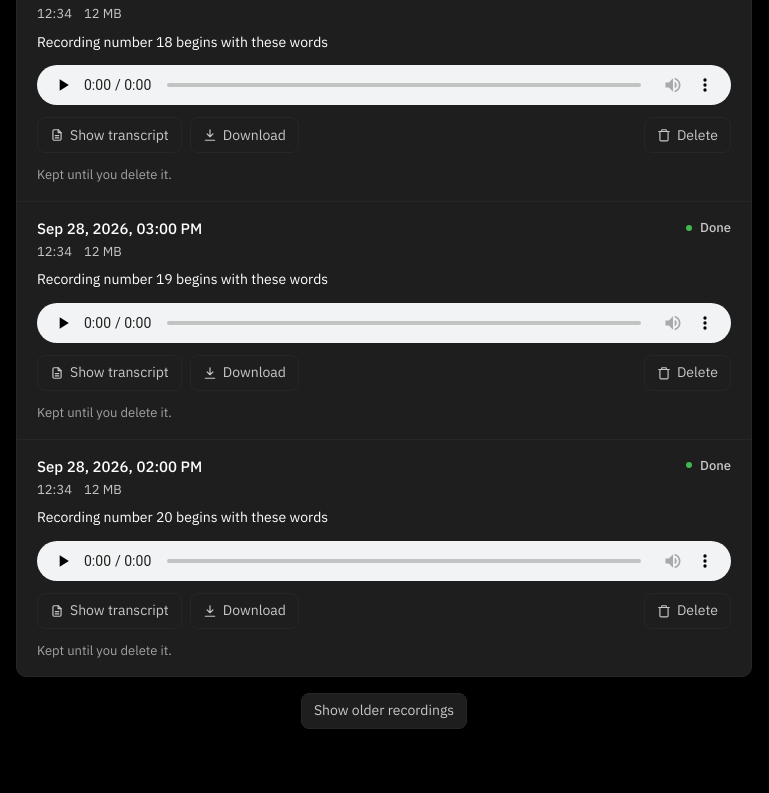
it: the list › pages back in time with the cursor the server gave, encoded so its "+00:00" survives
(page scrolled)
Step 1. Click the button "Show older recordings" → (384, 711), box x1=301 y1=693 x2=467 y2=729
(page scrolled)
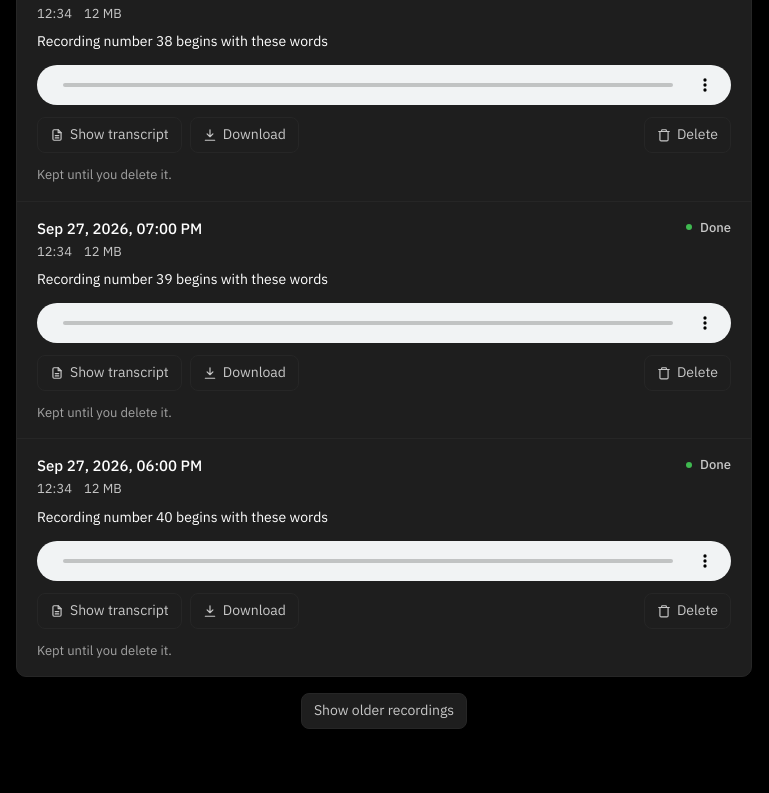
Step 2. Click the button "Show older recordings" → (384, 711), box x1=301 y1=693 x2=467 y2=729
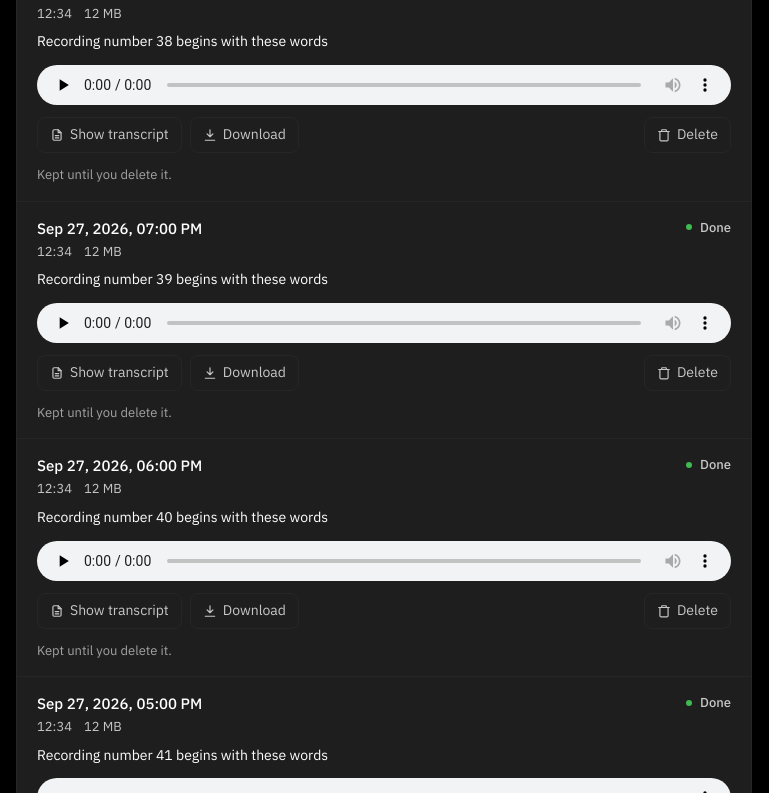
Expected: the button "Show older recordings" is gone
